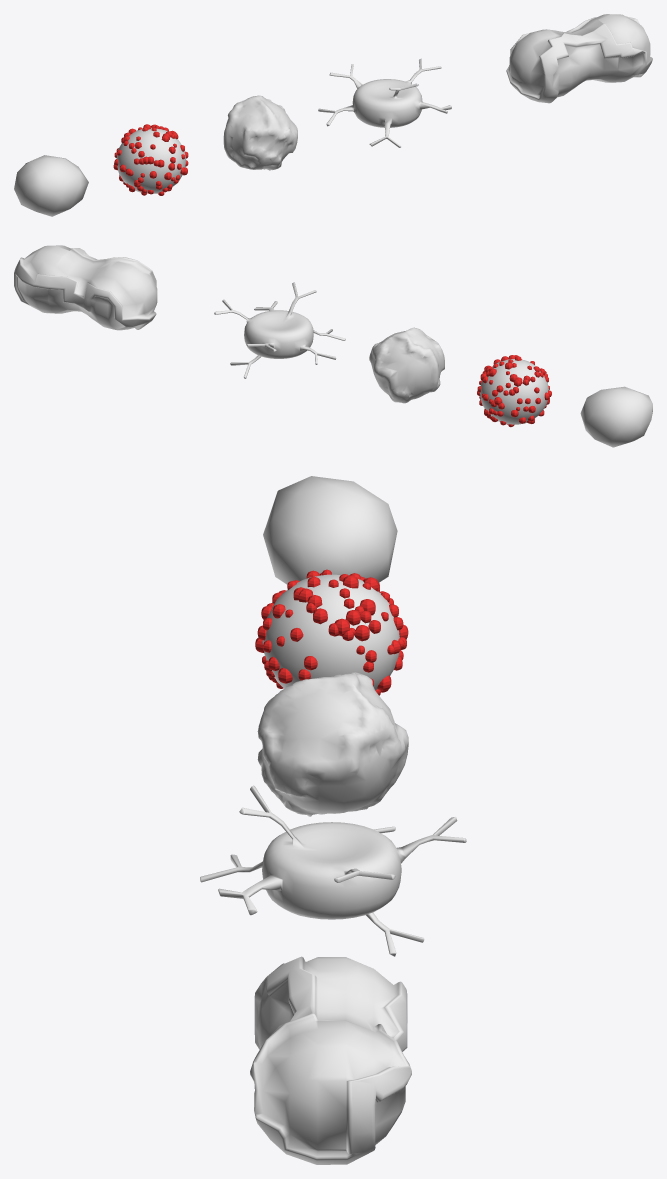
The model's file is cells.fbx.
The picture shows the model from 3 angles, top to bottom: view 1: azimuth 30°, elevation 25°; view 2: azimuth 150°, elevation 25°; view 3: azimuth 270°, elevation 25°; orthographic projection. The views are drawn at different scales.
Visible parts, largest first — view 1: cell_brain, cell_brain_1, cell_vein_2, cell_brain_2, Icosphere; view 2: cell_brain, cell_brain_1, cell_vein_2, cell_brain_2, Icosphere; view 3: cell_brain, cell_brain_1, cell_brain_2, cell_vein_2, Icosphere.
Part boxes in pixels (left/top/right/bottom): cell_brain: left=506, top=14, right=652, bottom=103; cell_brain_1: left=223, top=95, right=297, bottom=170; cell_vein_2: left=113, top=124, right=188, bottom=195; cell_brain_2: left=318, top=58, right=451, bottom=147; Icosphere: left=14, top=155, right=88, bottom=216; cell_brain: left=14, top=245, right=157, bottom=330; cell_brain_1: left=369, top=327, right=444, bottom=403; cell_vein_2: left=477, top=355, right=551, bottom=427; cell_brain_2: left=214, top=282, right=345, bottom=378; Icosphere: left=580, top=386, right=652, bottom=447; cell_brain: left=250, top=956, right=411, bottom=1164; cell_brain_1: left=257, top=672, right=408, bottom=816; cell_brain_2: left=200, top=785, right=466, bottom=956; cell_vein_2: left=255, top=569, right=408, bottom=695; Icosphere: left=263, top=476, right=397, bottom=584.
Size of the model in its own units: 2067 by 216 by 381.
